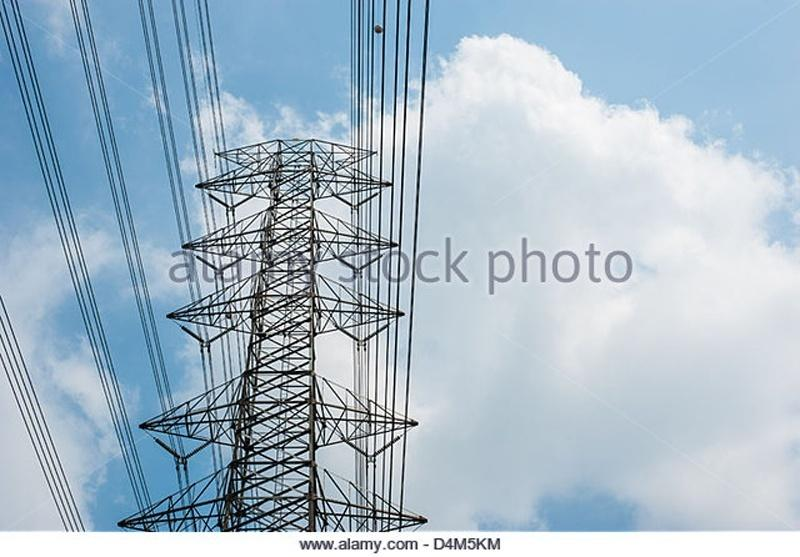power_tower: (131, 130, 425, 524)
